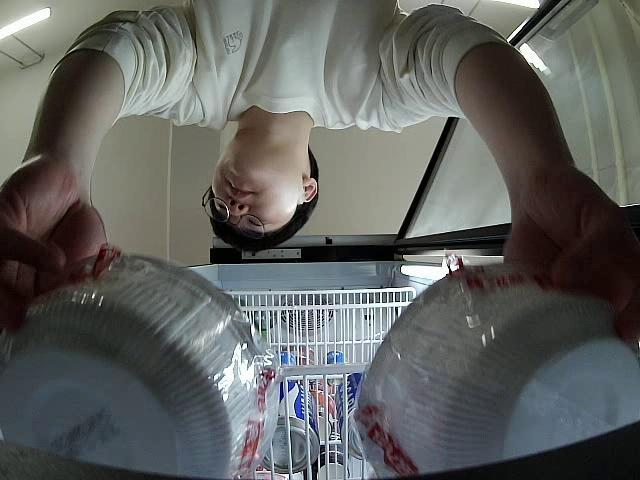09_yukGaeJang: (349, 261, 640, 480), (0, 253, 280, 480)
